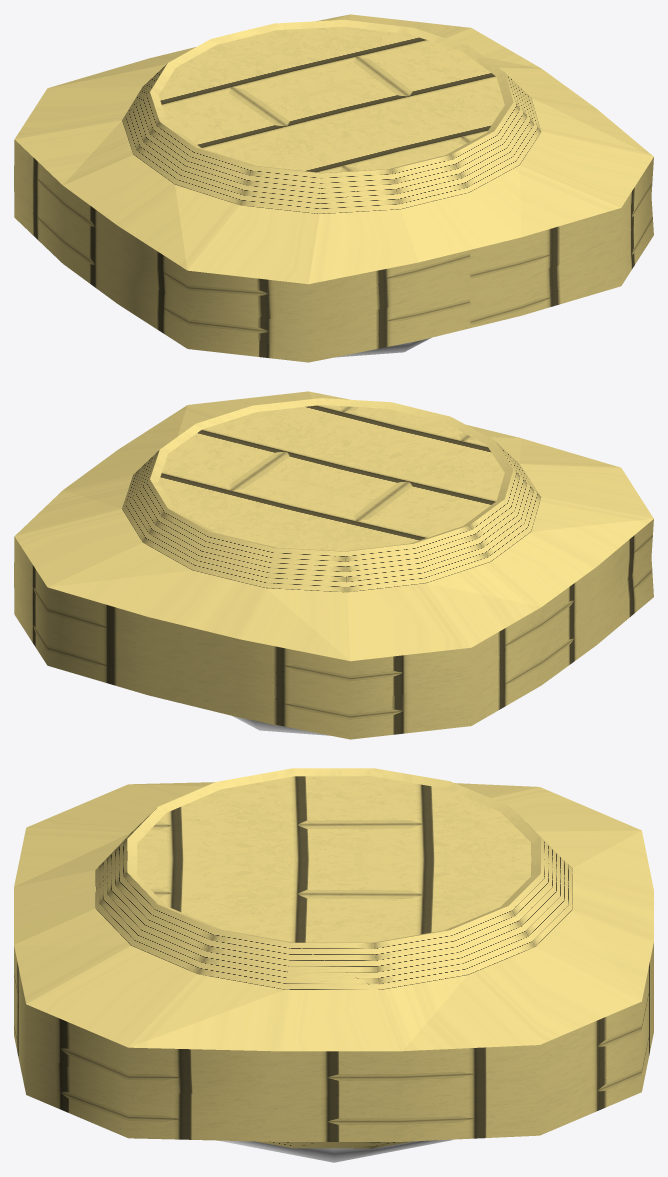
File: ControlGround.FBX
The picture shows the model from 3 angles, top to bottom: view 1: azimuth 30°, elevation 25°; view 2: azimuth 150°, elevation 25°; view 3: azimuth 270°, elevation 25°; orthographic projection. The views are drawn at different scales.
Visible parts, largest first — view 1: ChamferCyl001; view 2: ChamferCyl001, GeoSphere001; view 3: ChamferCyl001, GeoSphere001.
Boxes of the visible parts, <box> form: ChamferCyl001: <box>14,14,653,362</box>; ChamferCyl001: <box>14,391,653,739</box>; GeoSphere001: <box>232,716,330,735</box>; ChamferCyl001: <box>14,768,653,1148</box>; GeoSphere001: <box>219,1139,452,1162</box>.
Size of the model in its own units: 19.62 by 19.61 by 8.95.
